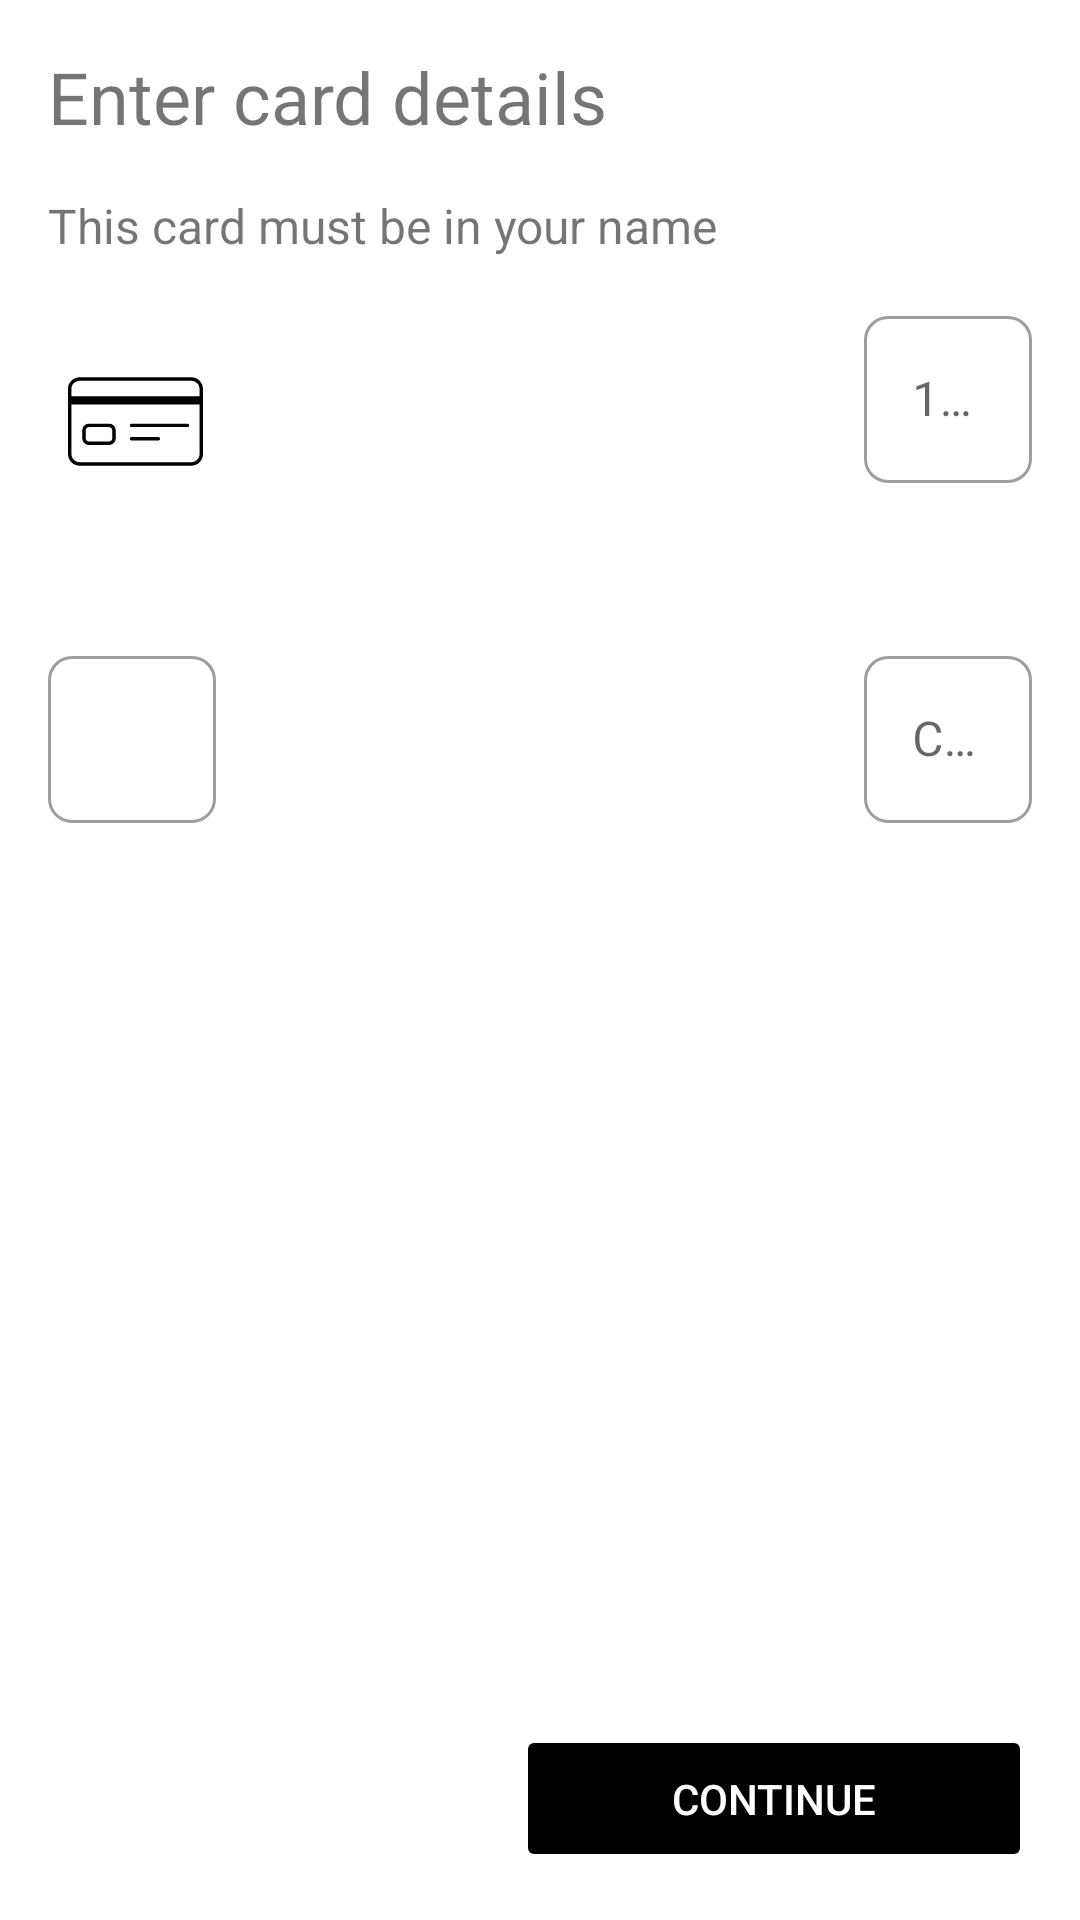

Icons on this 1080w x 1920h Android screen, each with the point to tap as (x,y):
Payment type icon: (135,421)
